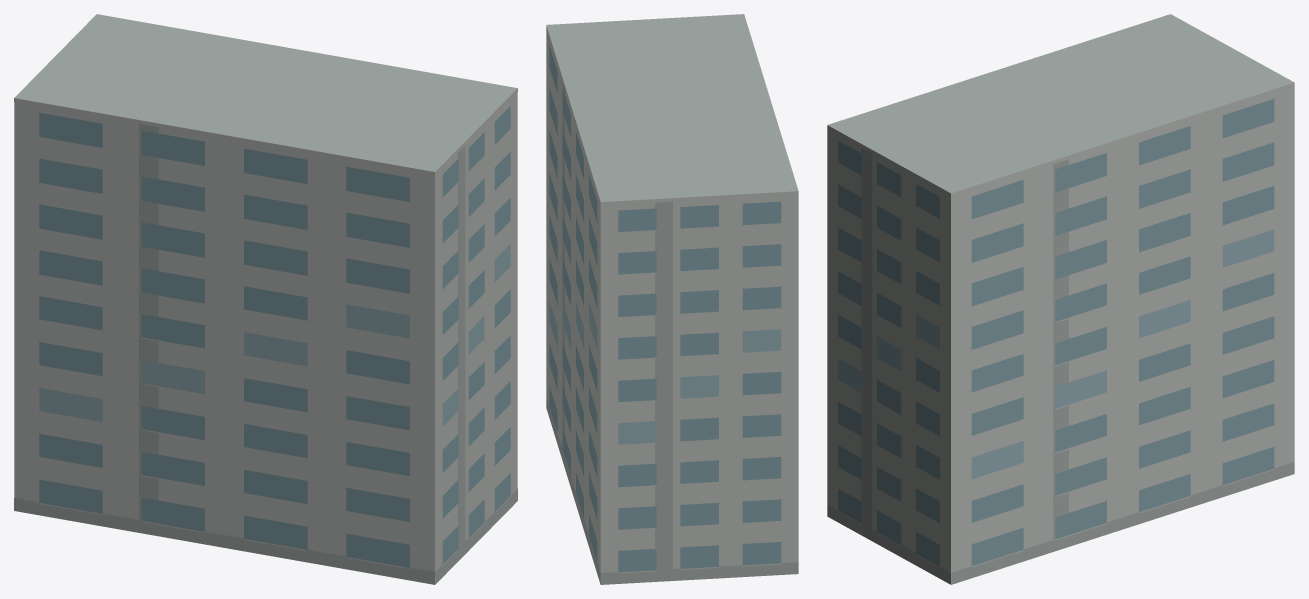
File: residential-d9952d7a-9e8f-462b-8b86-eac3cae4009a.glb
3 renders of one model, left to right at view 1: azimuth 30°, elevation 25°; view 2: azimuth 150°, elevation 25°; view 3: azimuth 270°, elevation 25°, orthographic. The views are drawn at different scales.
Visible parts, largest first — view 1: residential-d9952d7a-9e8f-462b-8b86-eac3cae4009a.tmp; view 2: residential-d9952d7a-9e8f-462b-8b86-eac3cae4009a.tmp; view 3: residential-d9952d7a-9e8f-462b-8b86-eac3cae4009a.tmp.
Part boxes in pixels (left/top/right/bottom): residential-d9952d7a-9e8f-462b-8b86-eac3cae4009a.tmp: left=14, top=14, right=517, bottom=584; residential-d9952d7a-9e8f-462b-8b86-eac3cae4009a.tmp: left=546, top=14, right=798, bottom=584; residential-d9952d7a-9e8f-462b-8b86-eac3cae4009a.tmp: left=827, top=14, right=1294, bottom=584.
Bounding box in the file's own units: 25.57 × 26 × 28.15.
